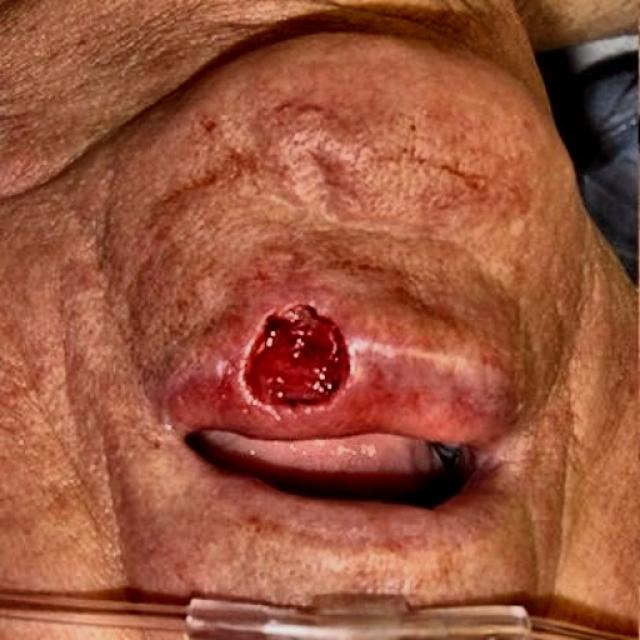cancer-detection: (205, 277, 378, 433)
processing_area: (167, 239, 550, 471)
